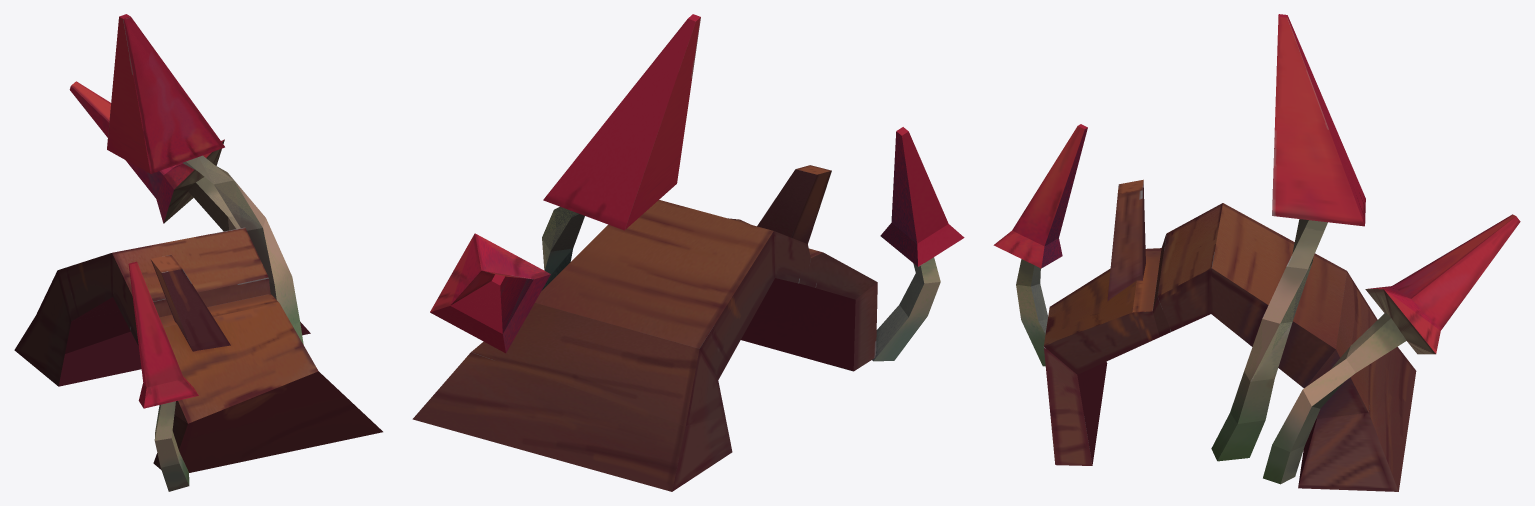
Rendered from Mushrooms.fbx.
3 renders of one model, left to right at view 1: azimuth 30°, elevation 25°; view 2: azimuth 150°, elevation 25°; view 3: azimuth 270°, elevation 25°, orthographic. The views are drawn at different scales.
Parts seen in each view (by area): view 1: mushrooms; view 2: mushrooms; view 3: mushrooms.
Part boxes in pixels (bbox=[...]): mushrooms: bbox=[14, 14, 382, 491]; mushrooms: bbox=[412, 14, 964, 491]; mushrooms: bbox=[993, 14, 1520, 491].
Size of the model in its own units: 1.08 by 1.25 by 1.55.
